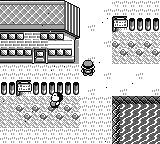captura: (120, 105, 160, 144)
leer: (16, 80, 32, 96), (112, 16, 128, 32)
main: (81, 59, 95, 76)
mo: (112, 96, 160, 143)
no-caminable: (0, 0, 78, 63), (32, 82, 79, 95), (128, 16, 160, 31), (0, 82, 16, 96)
npc: (49, 91, 63, 109)
puerta: (34, 49, 46, 63), (34, 49, 45, 63)
